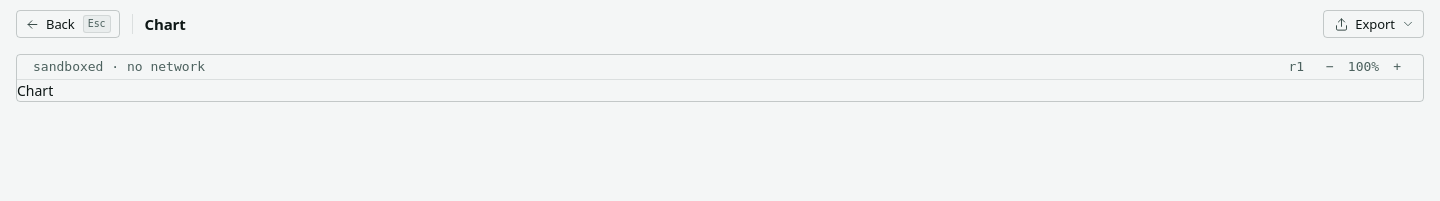
restores the same visual after a download or export failure and keeps the result visible
The image size is (1440, 201).
What coordinates should you click on to do the following:
click the button with test id "visual-export"
I would click on:
 (1374, 24)
Its box is [1323, 10, 1424, 38].
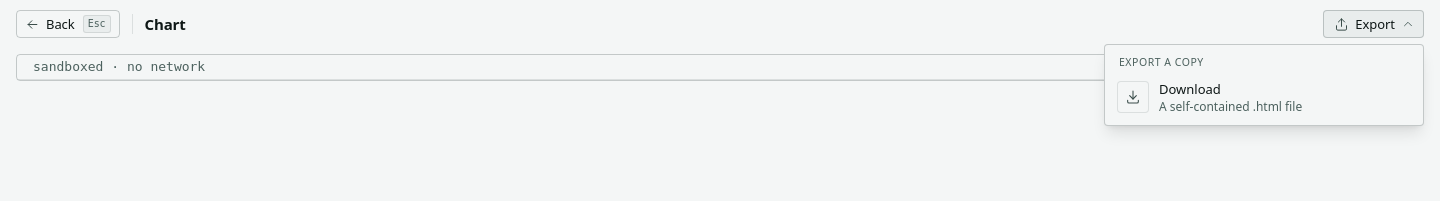
What coordinates should you click on to do the following:
click the button "Download A self-contained .html file"
I would click on:
 (1264, 97)
Its box is [1109, 73, 1419, 121].
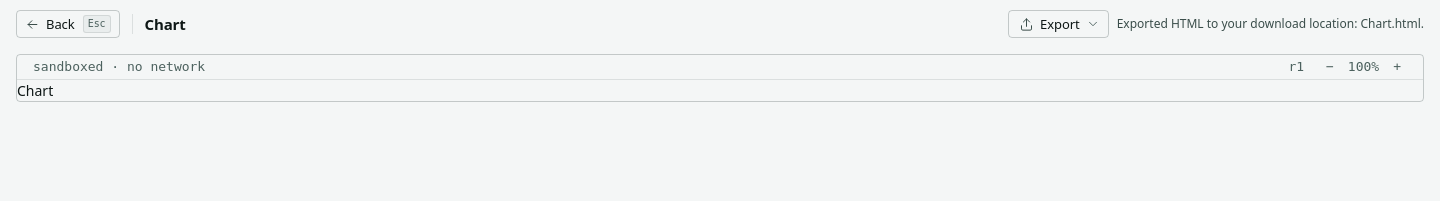
Expected: the message shows "Chart.html", [1117, 15, 1424, 32]
Expected: the element with test id "export-menu" is gone
What coordinates should you click on to do the following:
click the button with test id "visual-export"
I would click on:
 (1058, 24)
Its box is [1008, 10, 1109, 38].
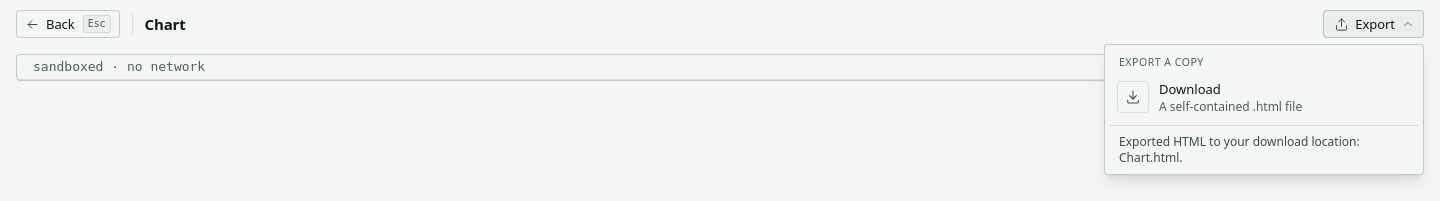
What coordinates should you click on to do the following:
click the button "Download A self-contained .html file"
I would click on:
 (1264, 97)
Its box is [1109, 73, 1419, 121].
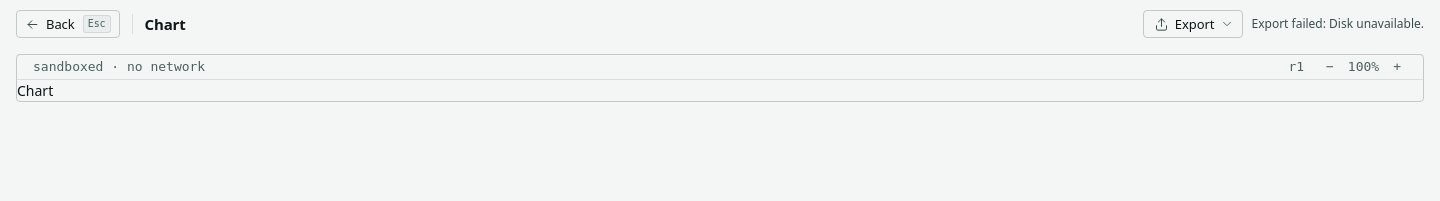
Expected: the message does not show ""
Expected: the message "Exported HTML to your download location: Chart.html." no longer shows "Chart.html"
Expected: the element with test id "export-menu" is gone
